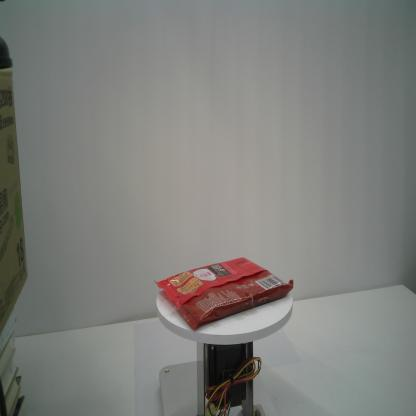Dessert: (154, 256, 294, 331)
